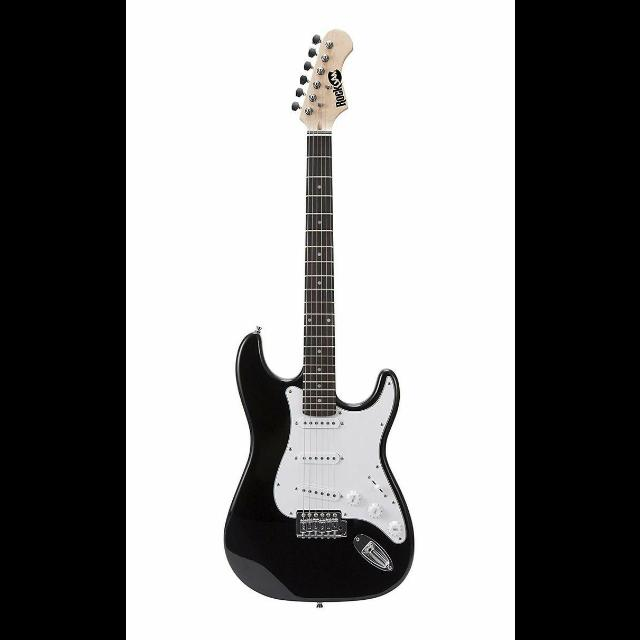Electric-Guitar: (147, 21, 426, 611)
